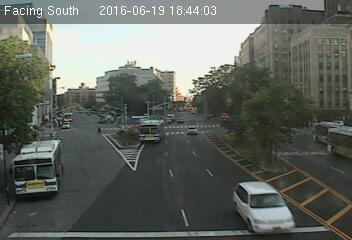neg: (62, 96, 91, 134), (262, 152, 289, 188), (122, 151, 148, 186), (135, 53, 161, 87), (291, 73, 316, 107), (163, 137, 188, 170), (45, 50, 66, 77), (203, 181, 223, 208), (43, 151, 62, 176), (93, 66, 110, 90), (281, 36, 298, 58), (268, 105, 284, 127), (205, 71, 221, 93), (213, 127, 229, 148), (79, 186, 95, 206), (4, 175, 19, 195)
